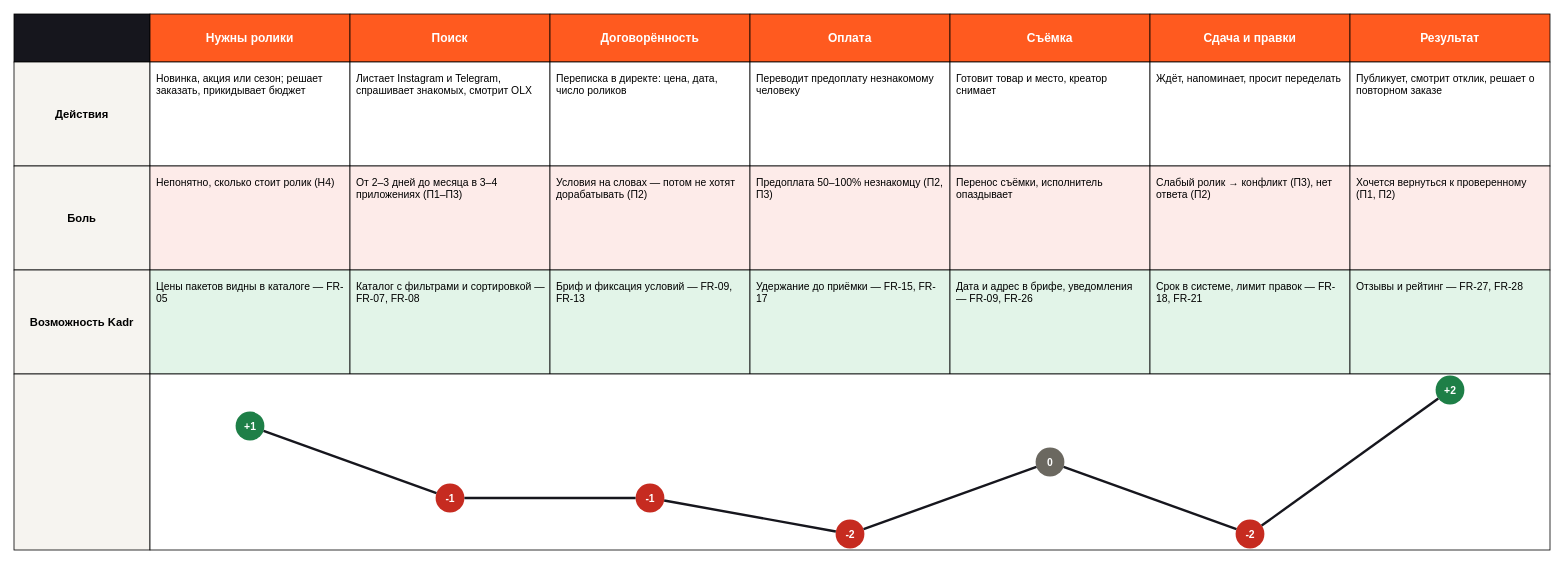
The diagram is 1564 pixels wide and 564 high, and some of its shapes have lost their labels. Each missing label, with the box of its shape:
Эмоция от −2 до +2: (13, 373, 150, 550)
Этап: (13, 13, 150, 62)
